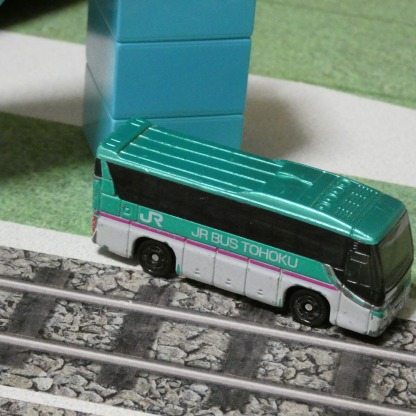car: (90, 116, 413, 343)
